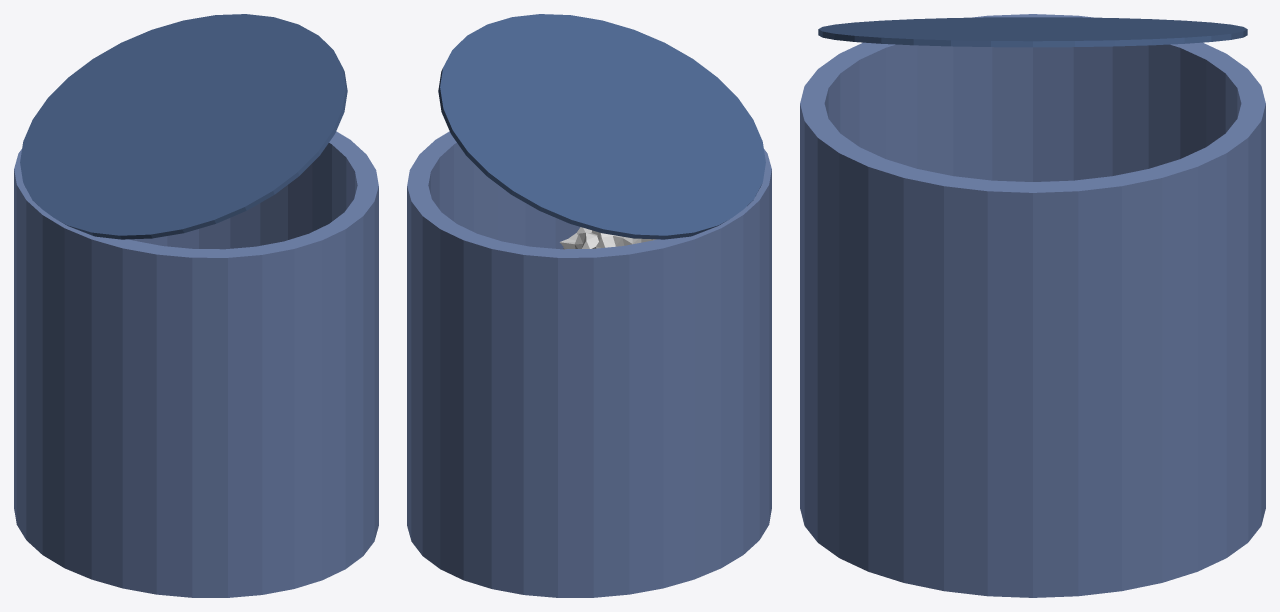
File: trash.gltf
3 views of the same model, side by side, from view 1: azimuth 30°, elevation 25°; view 2: azimuth 150°, elevation 25°; view 3: azimuth 270°, elevation 25° (orthographic). The views are drawn at different scales.
Parts seen in each view (by area): view 1: Mesh_Mesh_head_geo.001_lambert2SG.001; view 2: Mesh_Mesh_head_geo.001_lambert2SG.001; view 3: Mesh_Mesh_head_geo.001_lambert2SG.001.
Boxes of the visible parts, left/top/right/bottom form: Mesh_Mesh_head_geo.001_lambert2SG.001: left=14, top=14, right=378, bottom=597; Mesh_Mesh_head_geo.001_lambert2SG.001: left=407, top=14, right=771, bottom=597; Mesh_Mesh_head_geo.001_lambert2SG.001: left=800, top=14, right=1265, bottom=597.
Size of the model in its own units: 50 by 70.46 by 55.
